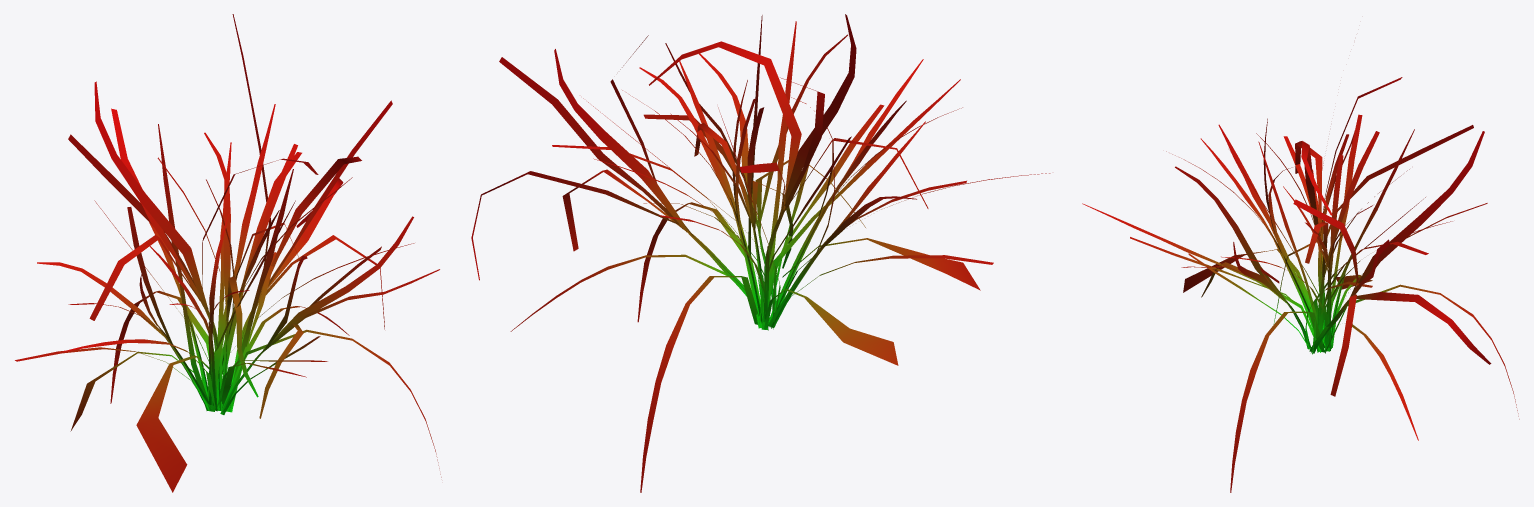
File: Lemongrass_LOD2_Var4_sktne.fbx
3 renders of one model, left to right at view 1: azimuth 30°, elevation 25°; view 2: azimuth 150°, elevation 25°; view 3: azimuth 270°, elevation 25°, orthographic. The views are drawn at different scales.
Visible parts, largest first — view 1: _70cc_Var4_LOD2; view 2: _70cc_Var4_LOD2; view 3: _70cc_Var4_LOD2.
Part boxes in pixels (x1,y1,x2,y2): _70cc_Var4_LOD2: (15,14,441,492); _70cc_Var4_LOD2: (471,14,1050,492); _70cc_Var4_LOD2: (1082,77,1519,492).
Size of the model in its own units: 67.49 by 62.34 by 68.19.
